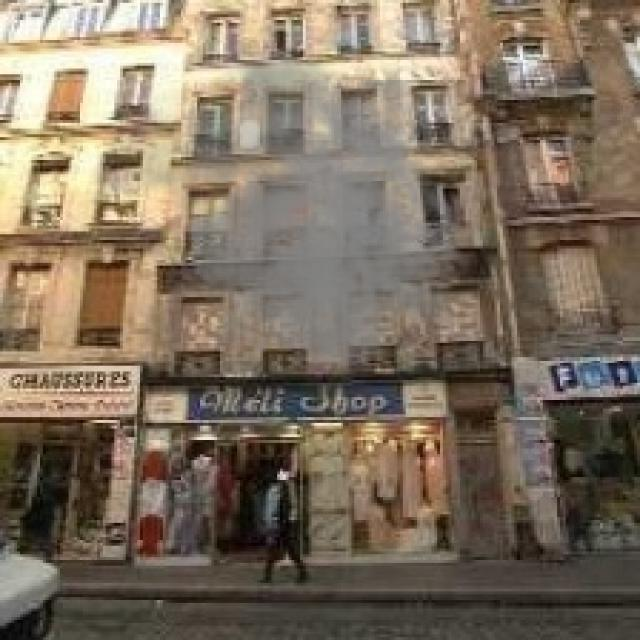Smoke: (89, 37, 472, 392)
